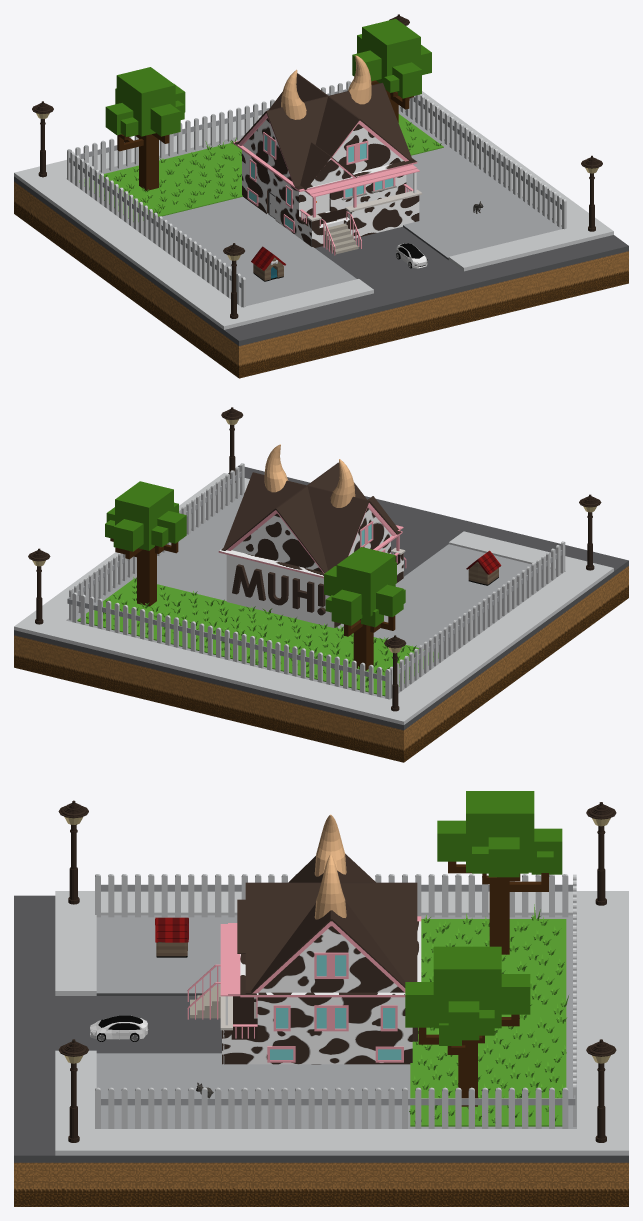
3 renders of one model, top to bottom at view 1: azimuth 30°, elevation 25°; view 2: azimuth 150°, elevation 25°; view 3: azimuth 270°, elevation 25°, orthographic. The views are drawn at different scales.
Parts seen in each view (by area): view 1: Cube.004, Cube.1242, OBJRANDOM_DOGHOUSE, VEHICLES_TESLA; view 2: Cube.004, Cube.1242, OBJRANDOM_DOGHOUSE; view 3: Cube.004, Cube.1242, OBJRANDOM_DOGHOUSE, VEHICLES_TESLA.
Boxes of the visible parts, x1,y1,x2,y2 form: Cube.004: [14, 14, 628, 378]; Cube.1242: [233, 55, 422, 255]; OBJRANDOM_DOGHOUSE: [251, 246, 285, 281]; VEHICLES_TESLA: [396, 243, 427, 268]; Cube.004: [14, 407, 628, 762]; Cube.1242: [218, 444, 406, 627]; OBJRANDOM_DOGHOUSE: [466, 550, 501, 585]; Cube.004: [14, 791, 628, 1206]; Cube.1242: [187, 814, 421, 1064]; OBJRANDOM_DOGHOUSE: [155, 917, 188, 957]; VEHICLES_TESLA: [90, 1015, 148, 1041].
Size of the model in its own units: 4000 by 2012 by 4000.
Materials: 40 (3 with a texture image).
